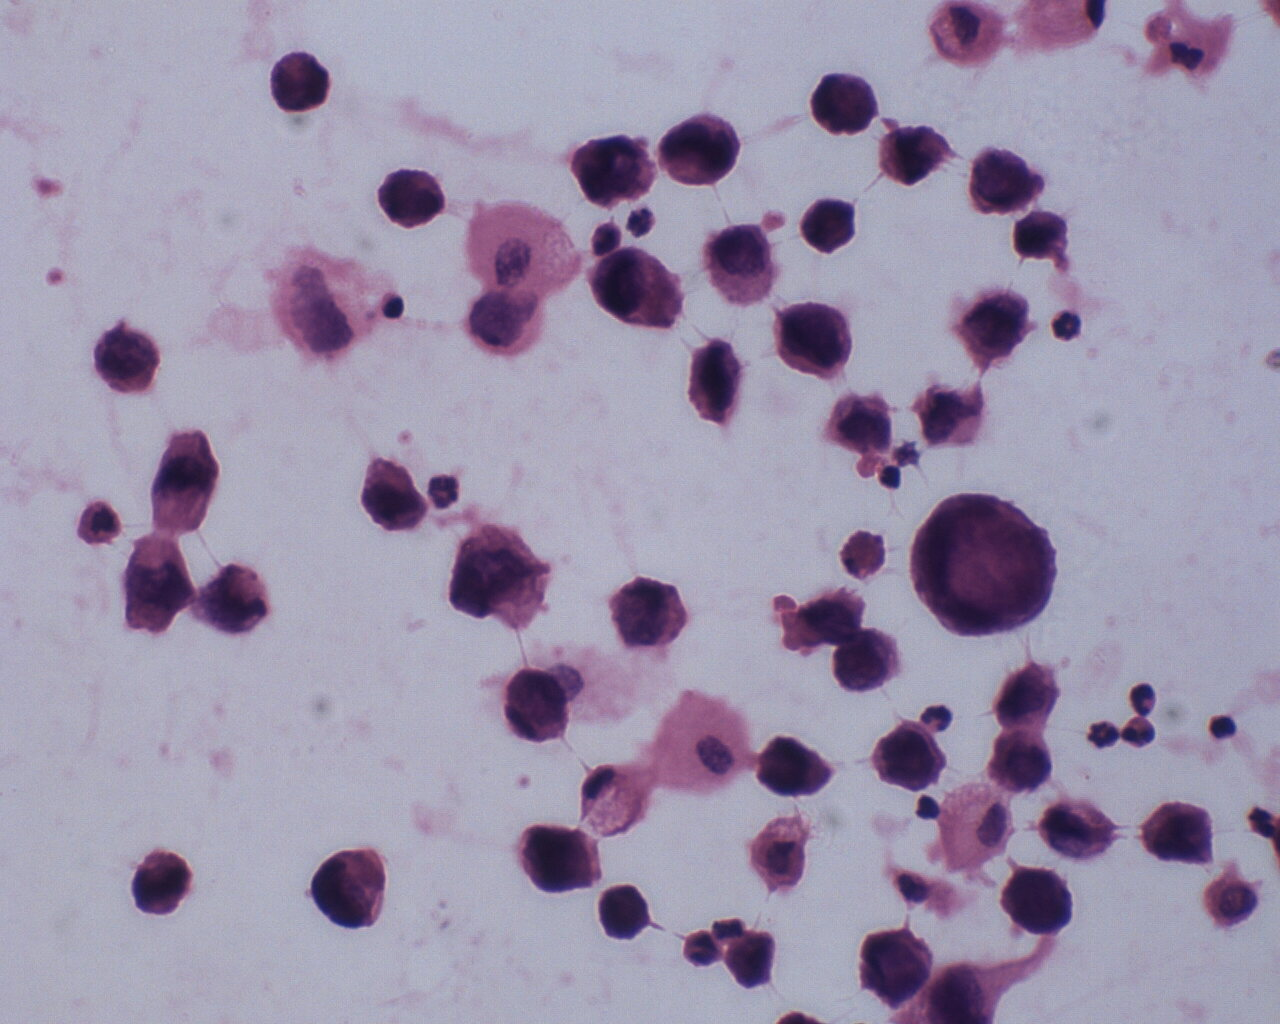ab: (909, 493, 1056, 638), (591, 243, 688, 338), (313, 845, 396, 932), (952, 286, 1037, 370), (569, 130, 657, 208), (856, 922, 933, 1010), (515, 818, 606, 893), (656, 113, 745, 188), (703, 219, 779, 306), (774, 298, 854, 376), (1137, 796, 1224, 867), (679, 338, 746, 428), (869, 716, 948, 793), (611, 573, 688, 652), (88, 322, 165, 399), (759, 730, 837, 802), (819, 386, 897, 458), (964, 144, 1041, 216), (1000, 863, 1074, 934), (810, 68, 878, 139), (377, 168, 444, 235), (1198, 866, 1262, 936), (269, 47, 331, 118), (131, 847, 193, 917), (799, 195, 857, 257)
histo: (935, 779, 1021, 875), (580, 760, 650, 839)
neutro: (426, 470, 461, 514), (1048, 307, 1087, 345), (1087, 713, 1120, 752), (1127, 677, 1160, 718)
